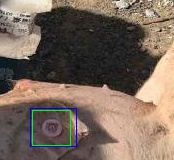text: (32, 110, 70, 145)
